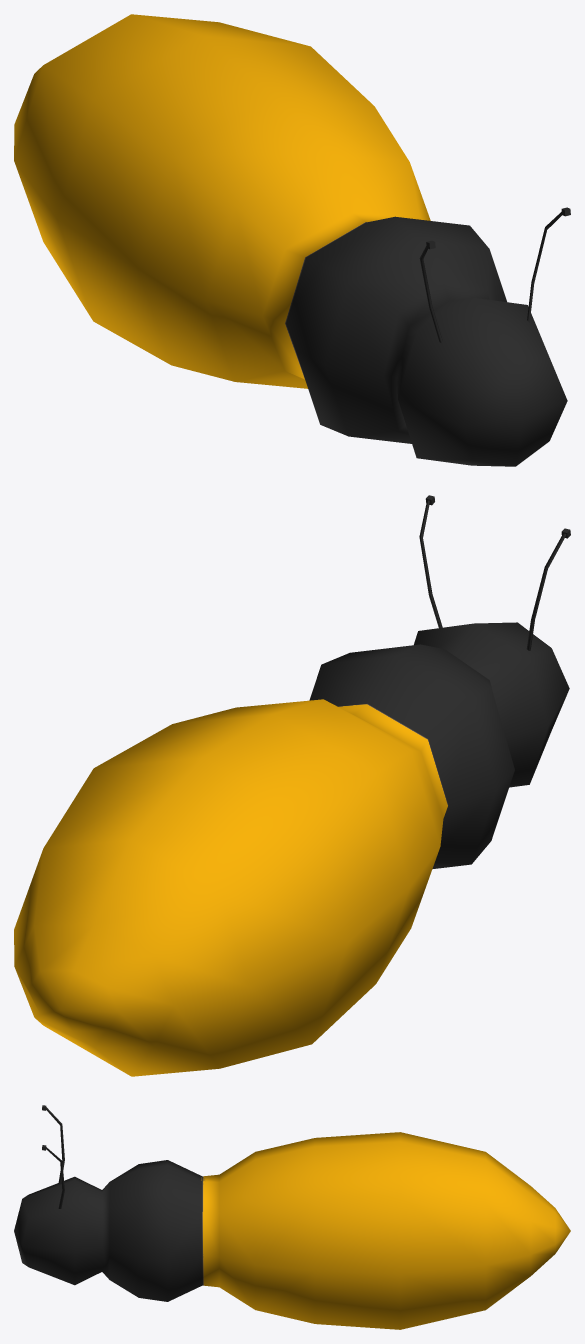
Rendered from Firefly.fbx.
3 renders of one model, top to bottom at view 1: azimuth 30°, elevation 25°; view 2: azimuth 150°, elevation 25°; view 3: azimuth 270°, elevation 25°, orthographic. The views are drawn at different scales.
Parts seen in each view (by area): view 1: Firefly; view 2: Firefly; view 3: Firefly.
Part boxes in pixels (bbox=[...]): Firefly: bbox=[14, 14, 570, 466]; Firefly: bbox=[14, 495, 570, 1076]; Firefly: bbox=[14, 1105, 570, 1329].
Bounding box in the file's own units: 1.37 × 1.46 × 3.78.
1 material, 1 textured.
